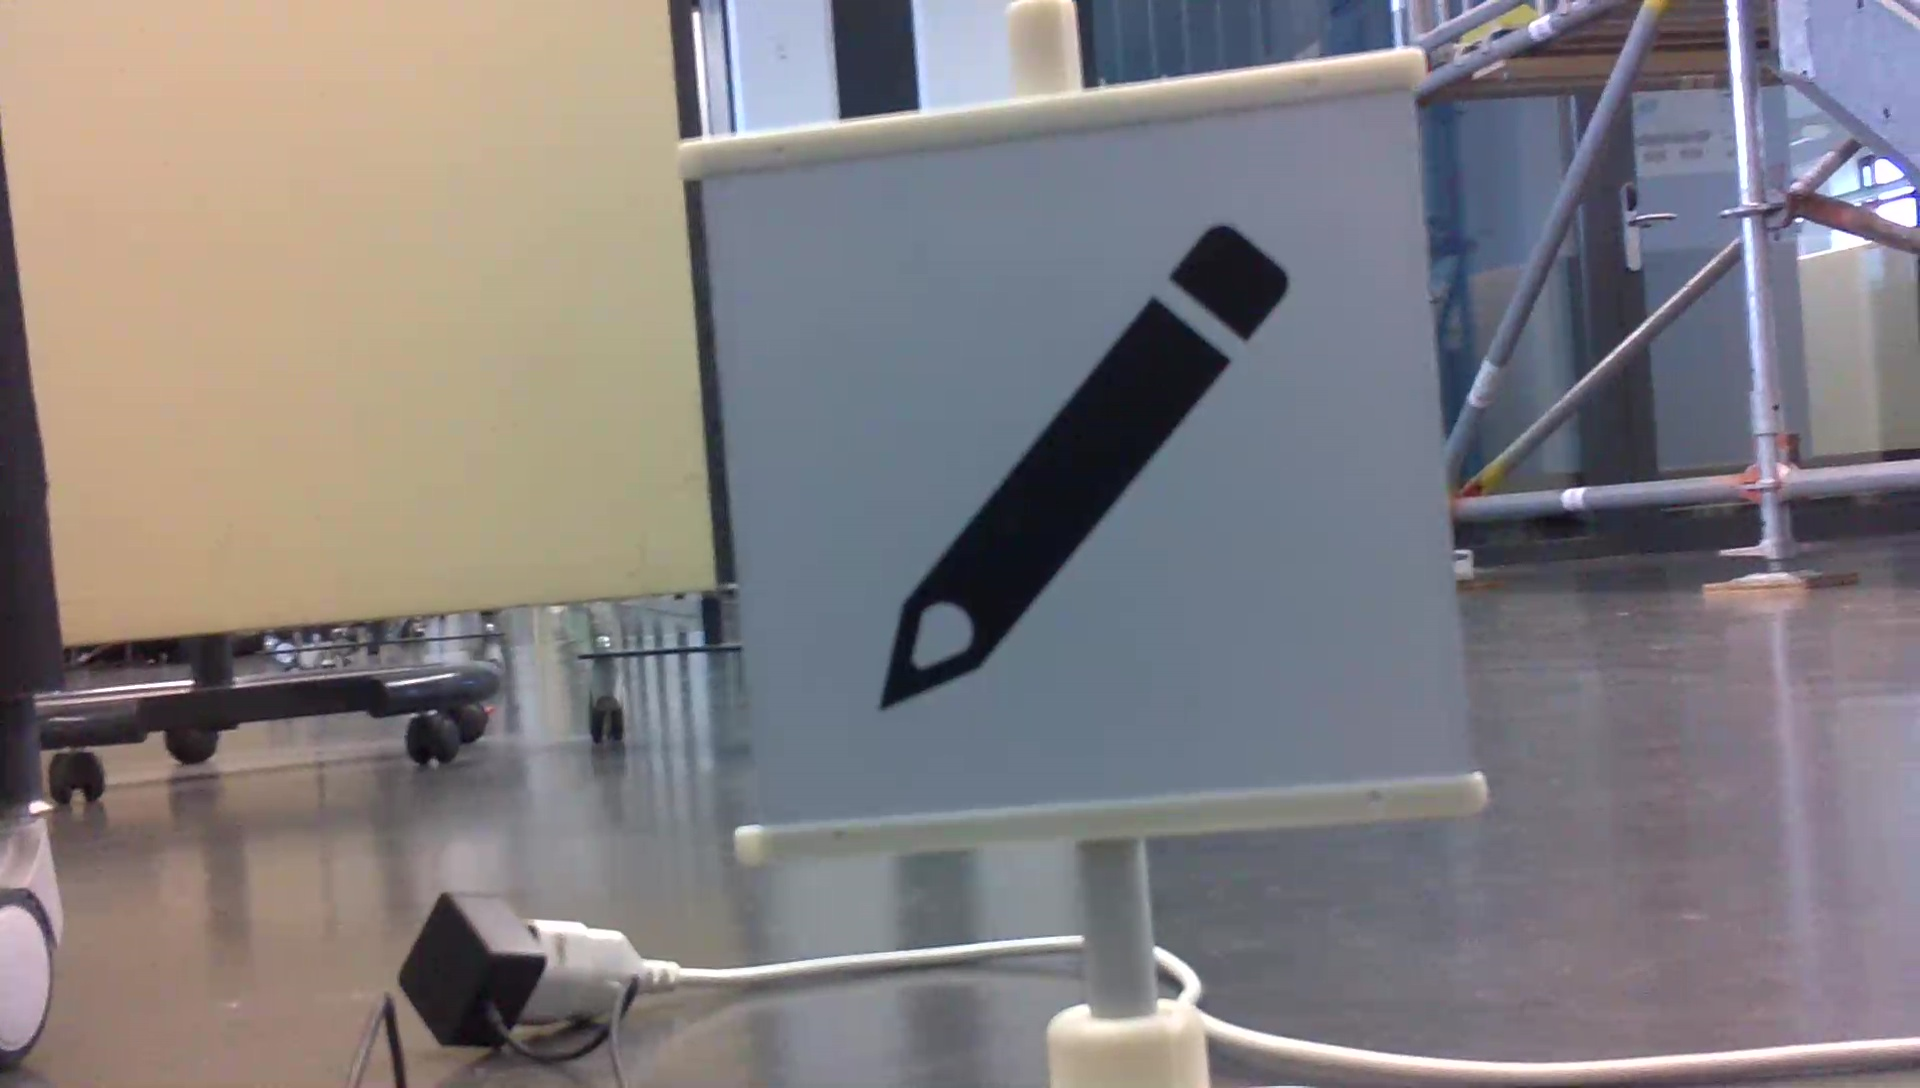pencil: (855, 214, 1303, 720)
